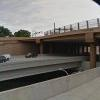Bridge: (7, 23, 98, 50)
